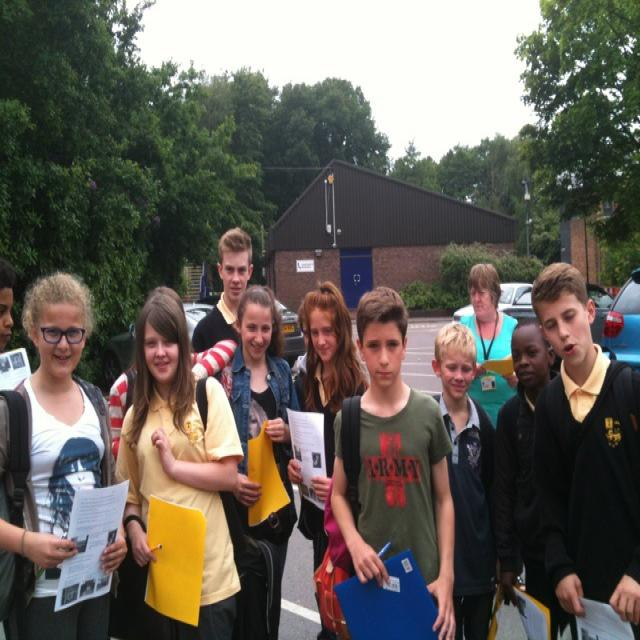body: (0, 268, 131, 639), (325, 282, 459, 638), (111, 289, 246, 639), (520, 260, 640, 628), (213, 282, 302, 640), (287, 276, 370, 639), (105, 281, 238, 471), (425, 320, 500, 639), (491, 316, 562, 640), (190, 224, 256, 401), (458, 260, 520, 431), (0, 259, 18, 556), (289, 302, 313, 374)
